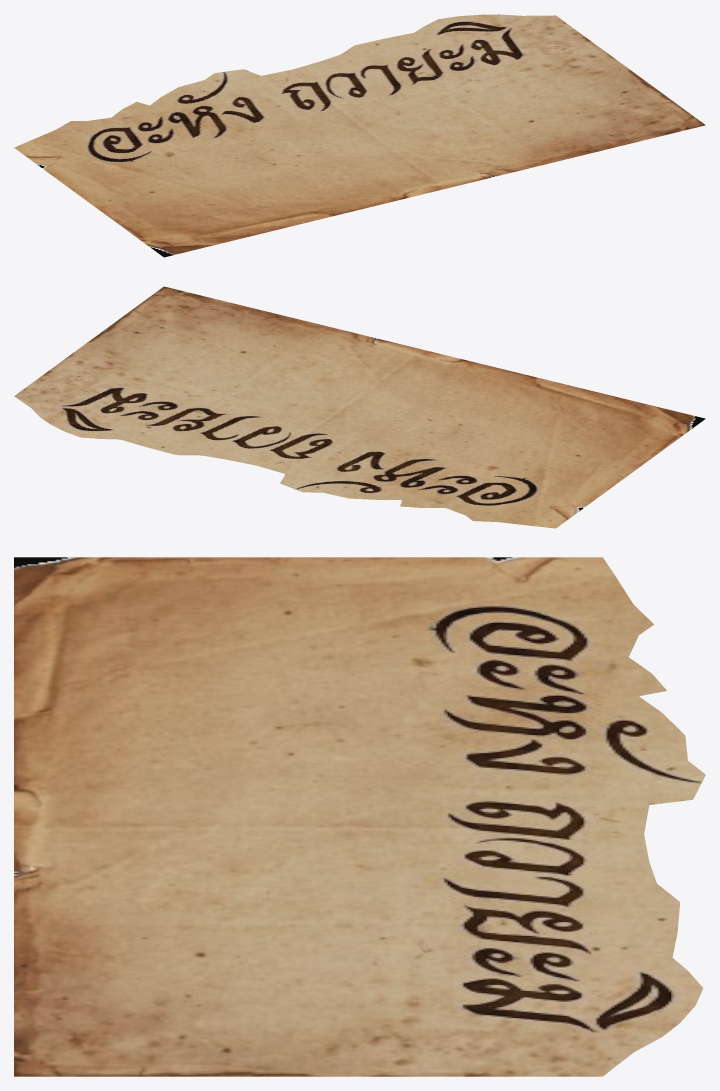
The picture shows the model from 3 angles, top to bottom: view 1: azimuth 30°, elevation 25°; view 2: azimuth 150°, elevation 25°; view 3: azimuth 270°, elevation 25°; orthographic projection. The views are drawn at different scales.
Parts seen in each view (by area): view 1: Plane.001; view 2: Plane.001; view 3: Plane.001.
Boxes of the visible parts, left/top/right/bottom form: Plane.001: left=14, top=14, right=705, bottom=257; Plane.001: left=14, top=286, right=705, bottom=528; Plane.001: left=14, top=557, right=705, bottom=1076.
Size of the model in its own units: 1 by 0 by 0.5633.
1 material, 1 textured.
